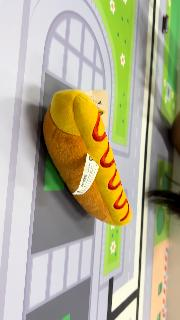hotdog: (43, 89, 133, 227)
